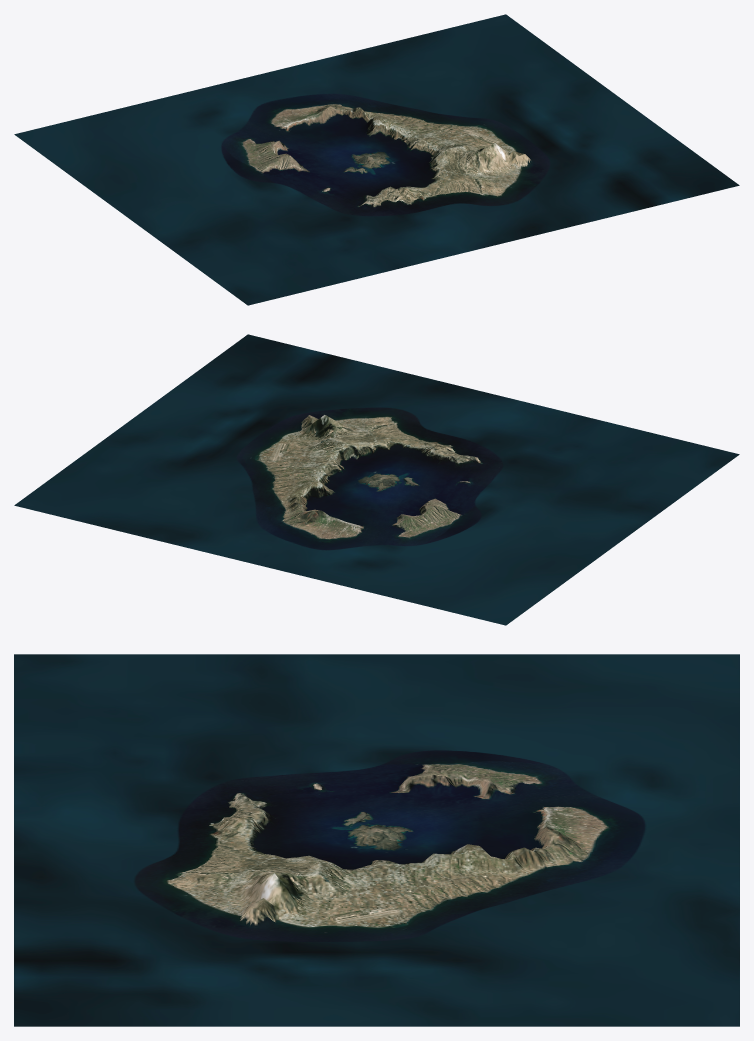
File: santorini_-_thera_greek_minoan_volcano_island.glb
3 views of the same model, one above another, from view 1: azimuth 30°, elevation 25°; view 2: azimuth 150°, elevation 25°; view 3: azimuth 270°, elevation 25° (orthographic). The views are drawn at different scales.
Parts seen in each view (by area): view 1: skfb_offset; view 2: skfb_offset; view 3: skfb_offset.
Part boxes in pixels (x1,y1,x2,y2): skfb_offset: [14, 14, 739, 305]; skfb_offset: [14, 334, 739, 625]; skfb_offset: [14, 654, 739, 1026].
Size of the model in its own units: 41582 by 1655 by 34244.
Materials: 1 (1 with a texture image).
